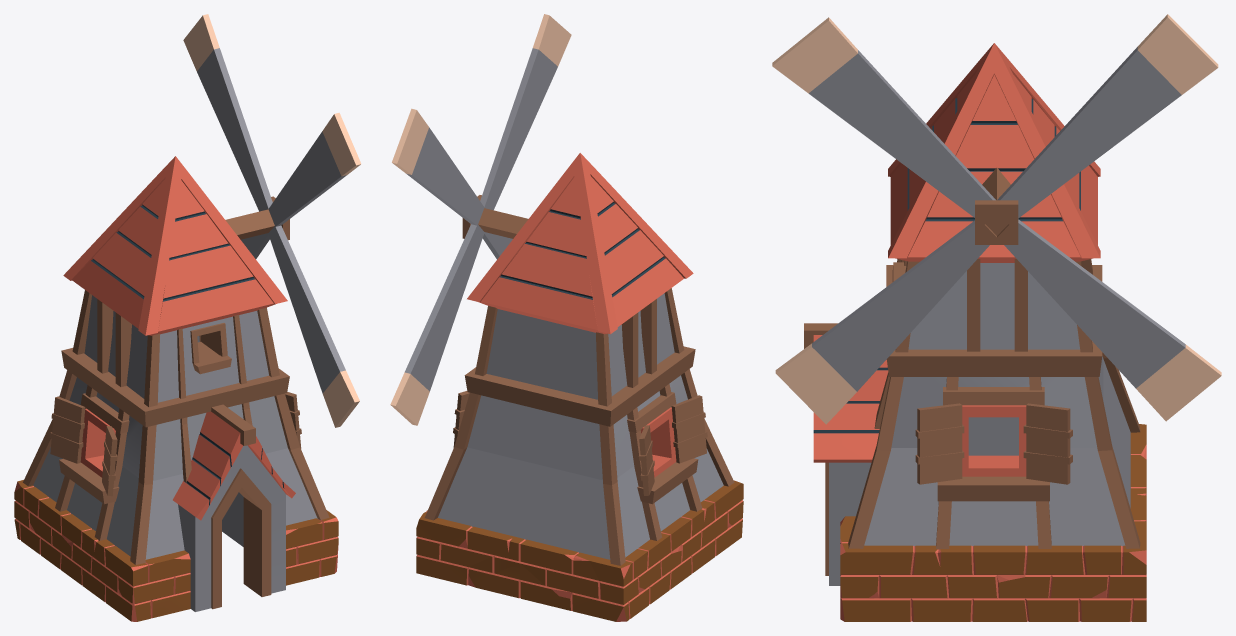
The model's file is Windmill.fbx.
The picture shows the model from 3 angles, left to right: view 1: azimuth 30°, elevation 25°; view 2: azimuth 150°, elevation 25°; view 3: azimuth 270°, elevation 25°; orthographic projection. The views are drawn at different scales.
Parts seen in each view (by area): view 1: Windmill, Windmill_wings; view 2: Windmill, Windmill_wings; view 3: Windmill, Windmill_wings.
Boxes of the visible parts, left/top/right/bottom form: Windmill: left=14, top=156, right=338, bottom=621; Windmill_wings: left=183, top=14, right=361, bottom=427; Windmill: left=416, top=153, right=743, bottom=621; Windmill_wings: left=390, top=14, right=571, bottom=425; Windmill: left=804, top=43, right=1146, bottom=621; Windmill_wings: left=772, top=14, right=1221, bottom=424.
Bounding box in the file's own units: 122 × 260 × 176.
